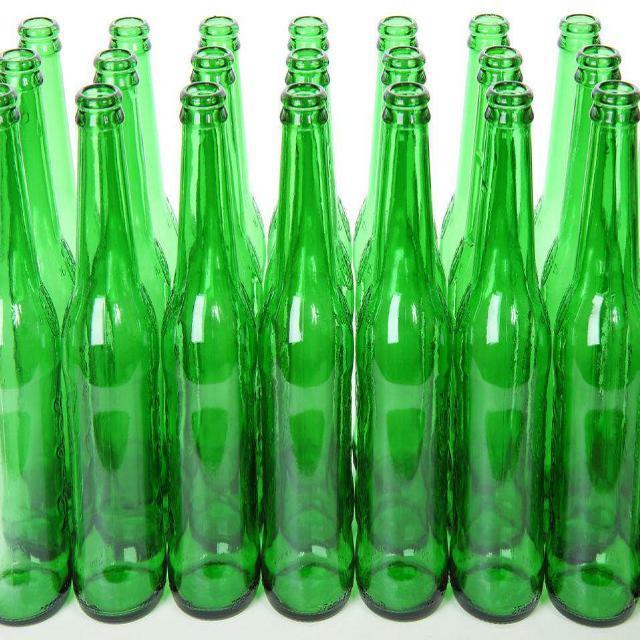glass: (162, 76, 266, 617)
